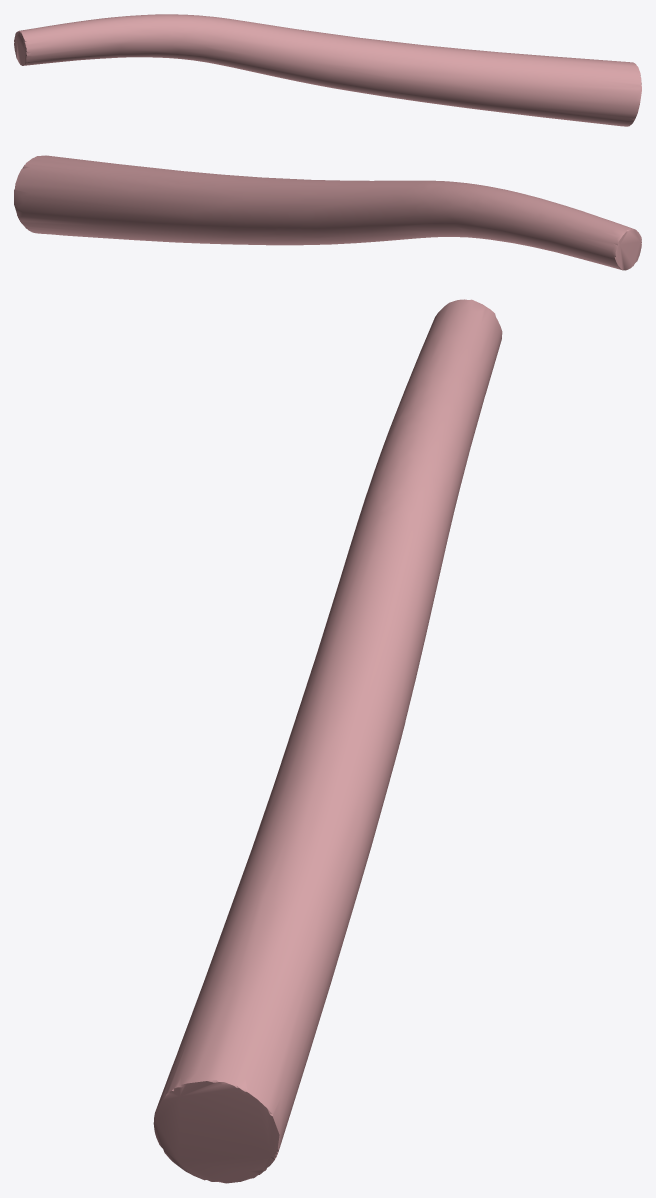
The model's file is fma68215_fj2504.glb.
The picture shows the model from 3 angles, top to bottom: view 1: azimuth 30°, elevation 25°; view 2: azimuth 150°, elevation 25°; view 3: azimuth 270°, elevation 25°; orthographic projection. The views are drawn at different scales.
Parts seen in each view (by area): view 1: FMA68215_FJ2504; view 2: FMA68215_FJ2504; view 3: FMA68215_FJ2504.
Boxes of the visible parts, box(x1,y1,x2,y2) form: FMA68215_FJ2504: box(14, 14, 641, 126); FMA68215_FJ2504: box(14, 155, 641, 270); FMA68215_FJ2504: box(153, 299, 502, 1183).
Bounding box in the file's own units: 0.0546 × 0.0167 × 0.0148.
